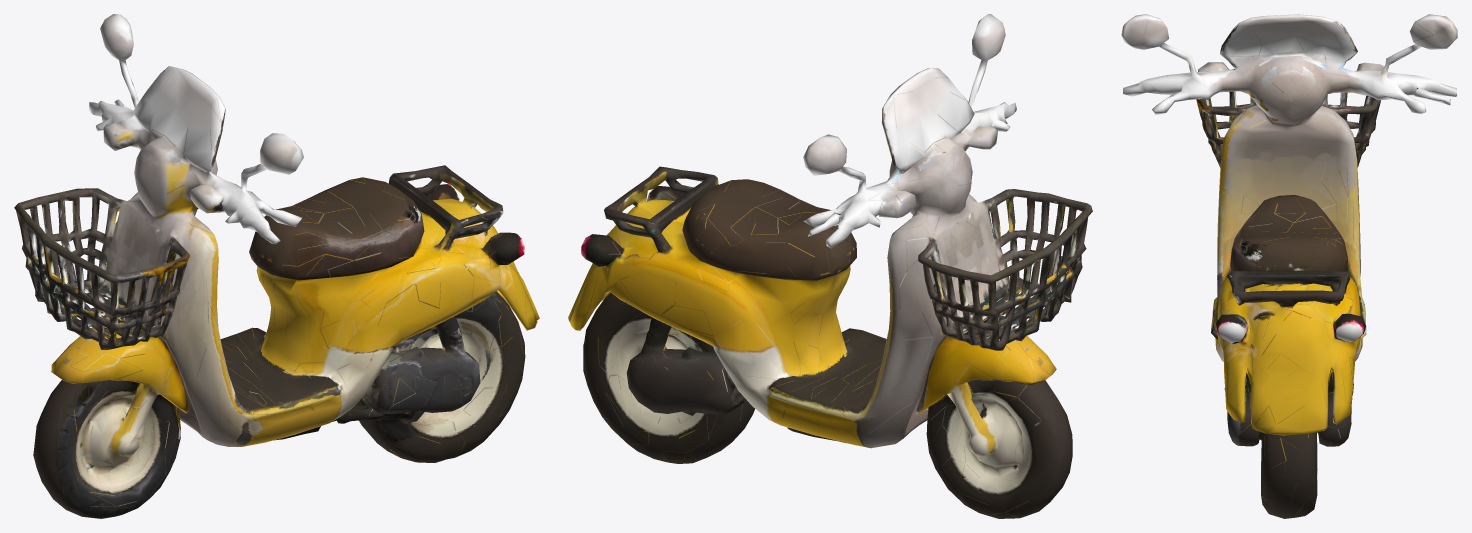
The model's file is scooter.glb.
3 renders of one model, left to right at view 1: azimuth 30°, elevation 25°; view 2: azimuth 150°, elevation 25°; view 3: azimuth 270°, elevation 25°, orthographic. The views are drawn at different scales.
Visible parts, largest first — view 1: geometry_0; view 2: geometry_0; view 3: geometry_0.
Part boxes in pixels (x1=…): geometry_0: x1=14, y1=14, x2=539, y2=518; geometry_0: x1=568, y1=14, x2=1092, y2=518; geometry_0: x1=1121, y1=14, x2=1457, y2=518.
Size of the model in its own units: 1.99 by 1.72 by 1.33.
Materials: 1 (1 with a texture image).
